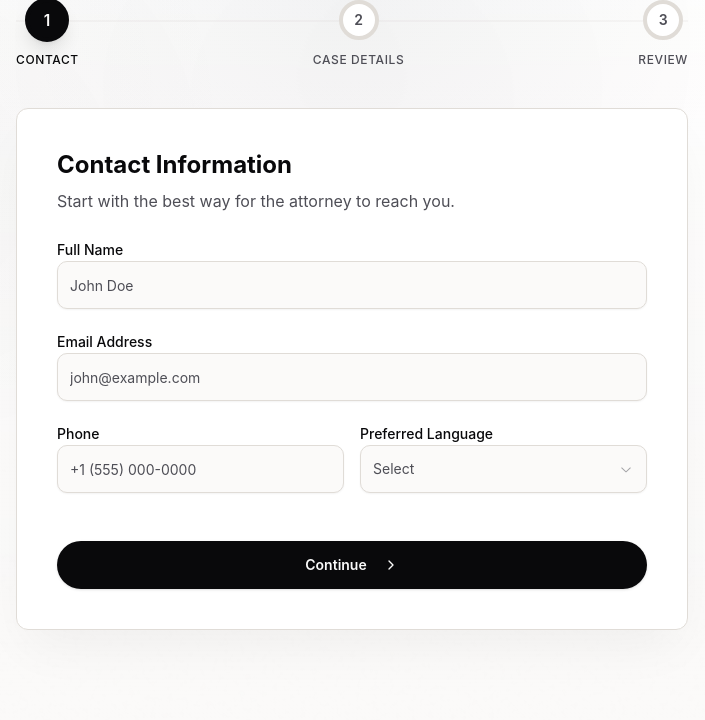
IntakeForm › shows field errors and stays on the first step when required details are missing
This screenshot has width=705, height=720.
Type "......." into the field labelled "Phone".
click(200, 469); type(".......")  # box [57,445,344,493]
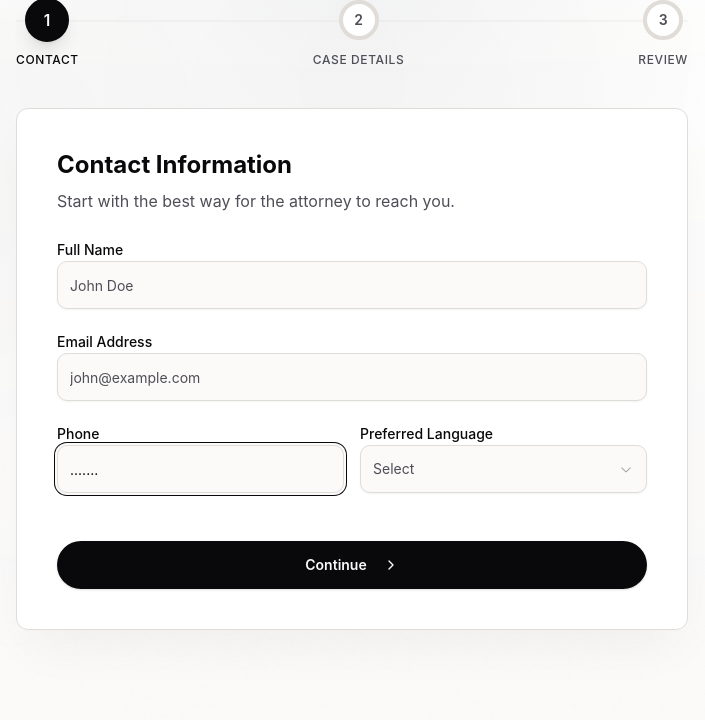
Click the button "Continue".
click(352, 565)  # box [57,541,647,589]
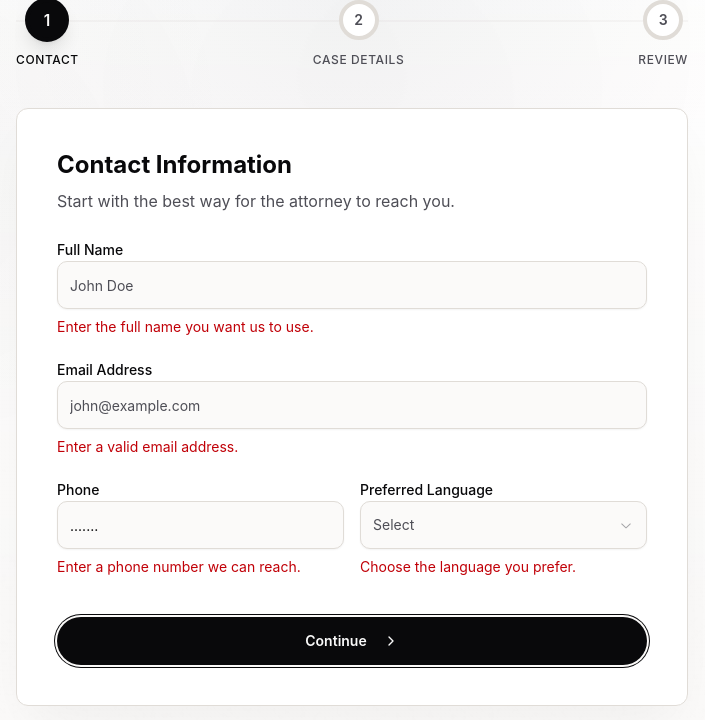
expect the text "Enter the full name you want us to use." is shown: met, box [57,318,314,335]
expect the text "Enter a valid email address." is shown: met, box [57,438,238,455]
expect the text "Enter a phone number we can reach." is shown: met, box [57,558,301,575]
